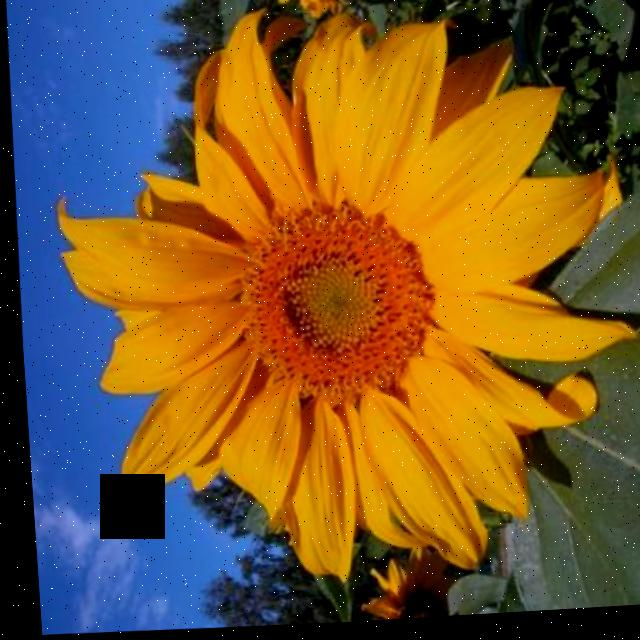sunflower: (21, 0, 640, 615)
